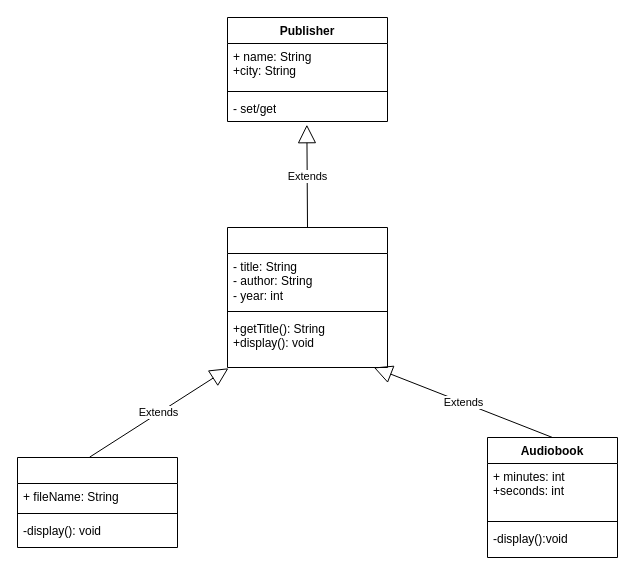
Some shapes in this 635 by 578 pixel diagram are drawn without their labels. The box of each missing label's shape, as (x1, y1, x2, y2) in pixels:
Book: (226, 226, 388, 368)
Ebook: (16, 456, 178, 548)
